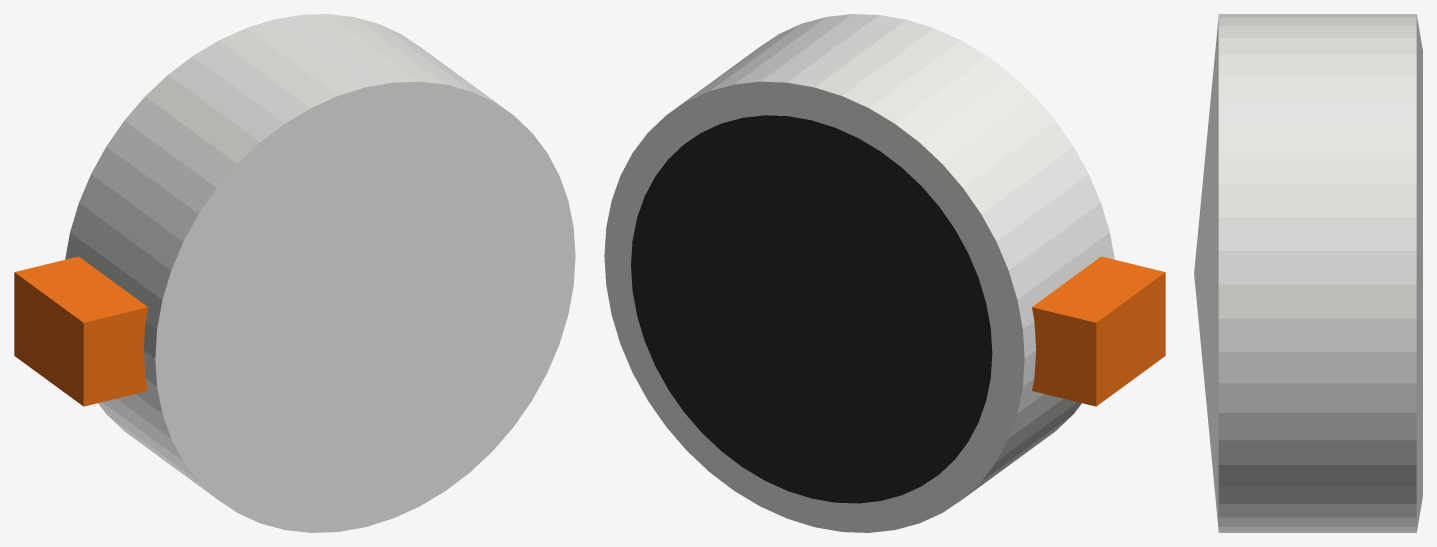
Rendered from pico_half.obj.
3 renders of one model, left to right at view 1: azimuth 30°, elevation 25°; view 2: azimuth 150°, elevation 25°; view 3: azimuth 270°, elevation 25°, orthographic. The views are drawn at different scales.
Size of the model in its own units: 0.048 by 0.042 by 0.0185.
Materials: 1 (1 with a texture image).
